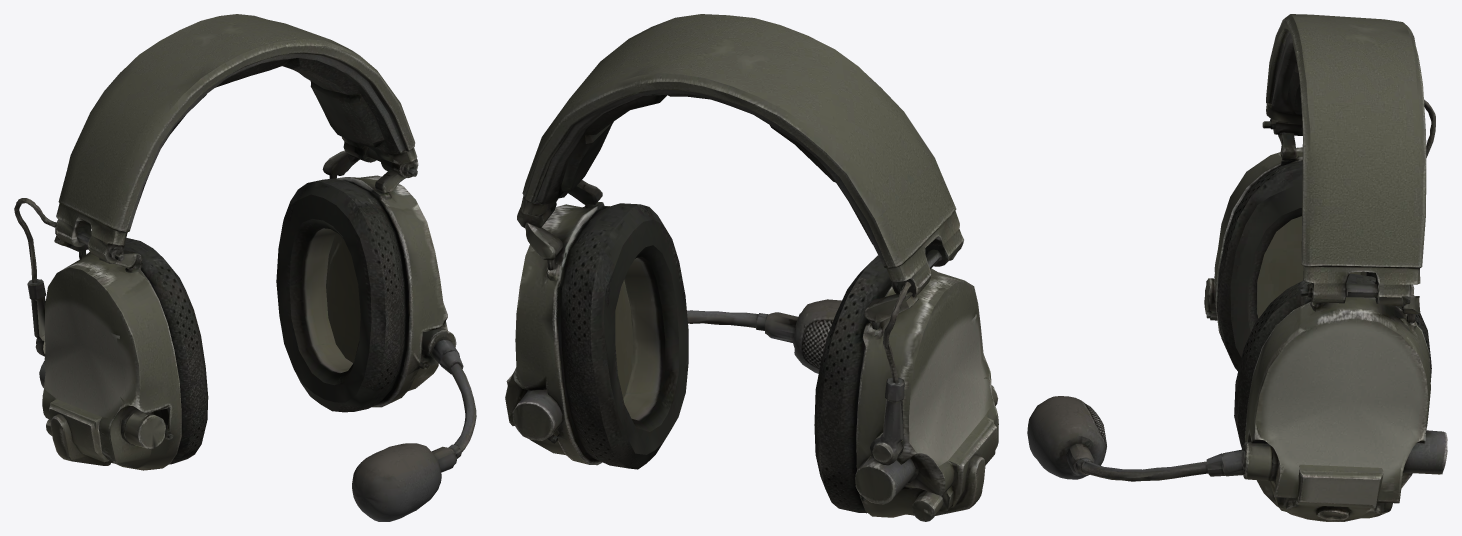
File: cuffie.glb
3 views of the same model, side by side, from view 1: azimuth 30°, elevation 25°; view 2: azimuth 150°, elevation 25°; view 3: azimuth 270°, elevation 25° (orthographic). The views are drawn at different scales.
Parts seen in each view (by area): view 1: obj1_0; view 2: obj1_0; view 3: obj1_0.
Part boxes in pixels (left/top/right/bottom): obj1_0: left=14, top=14, right=476, bottom=521; obj1_0: left=505, top=14, right=998, bottom=521; obj1_0: left=1027, top=14, right=1447, bottom=521.
Bounding box in the file's own units: 1 × 0.9847 × 0.8795.
Materials: 1 (1 with a texture image).
